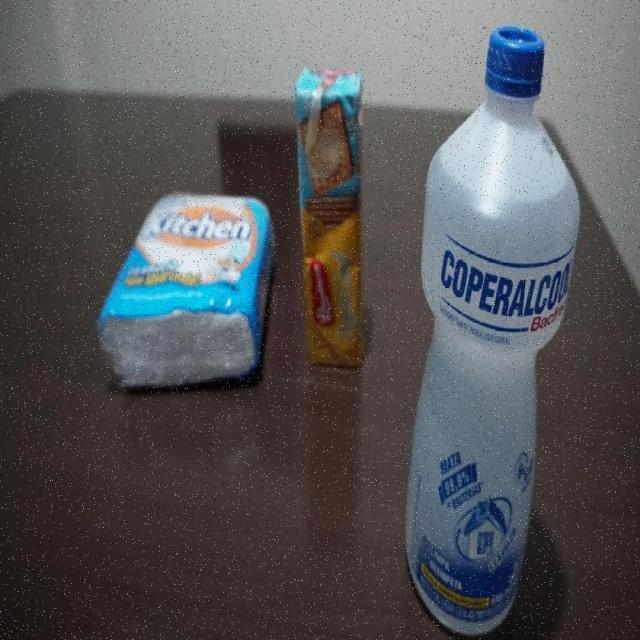AlcoholBottle: (401, 22, 583, 640)
Cracker: (294, 67, 364, 372)
Napkin: (99, 190, 278, 396)
